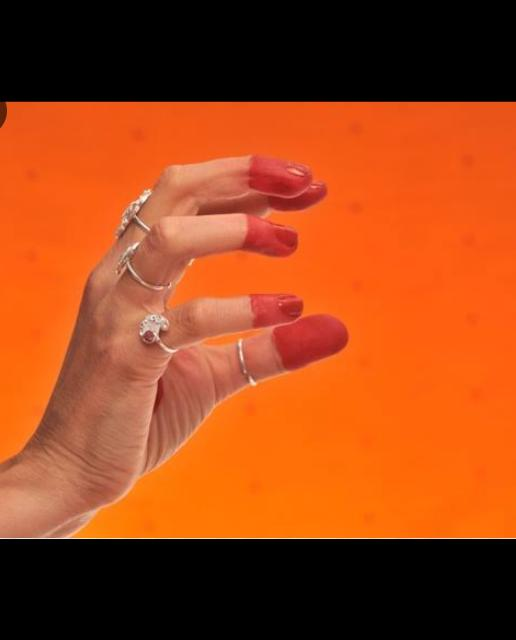padamkosh: (0, 157, 374, 539)
